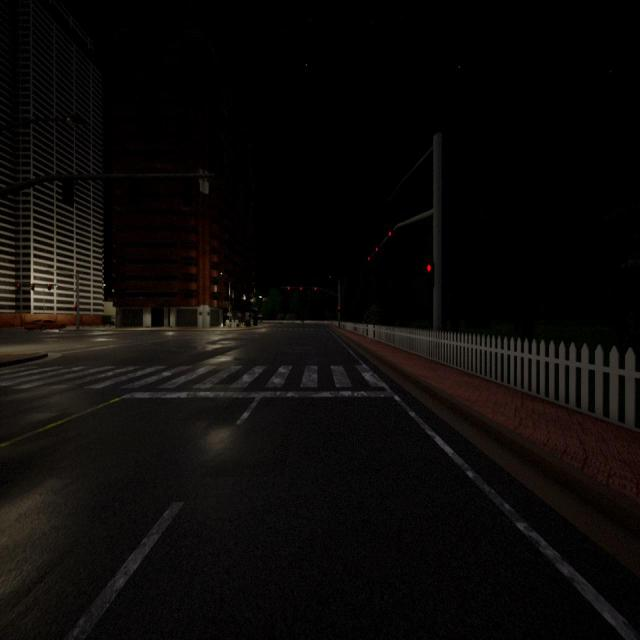Vehicle: (24, 319, 66, 332), (103, 315, 116, 326)
traffic_light: (61, 175, 74, 206), (426, 261, 434, 288), (16, 283, 21, 291), (48, 284, 51, 291), (388, 231, 392, 236), (74, 305, 77, 311), (32, 284, 34, 291), (338, 306, 340, 312), (376, 247, 378, 252), (288, 286, 290, 290), (300, 287, 302, 291), (368, 256, 370, 260), (314, 288, 317, 290)
